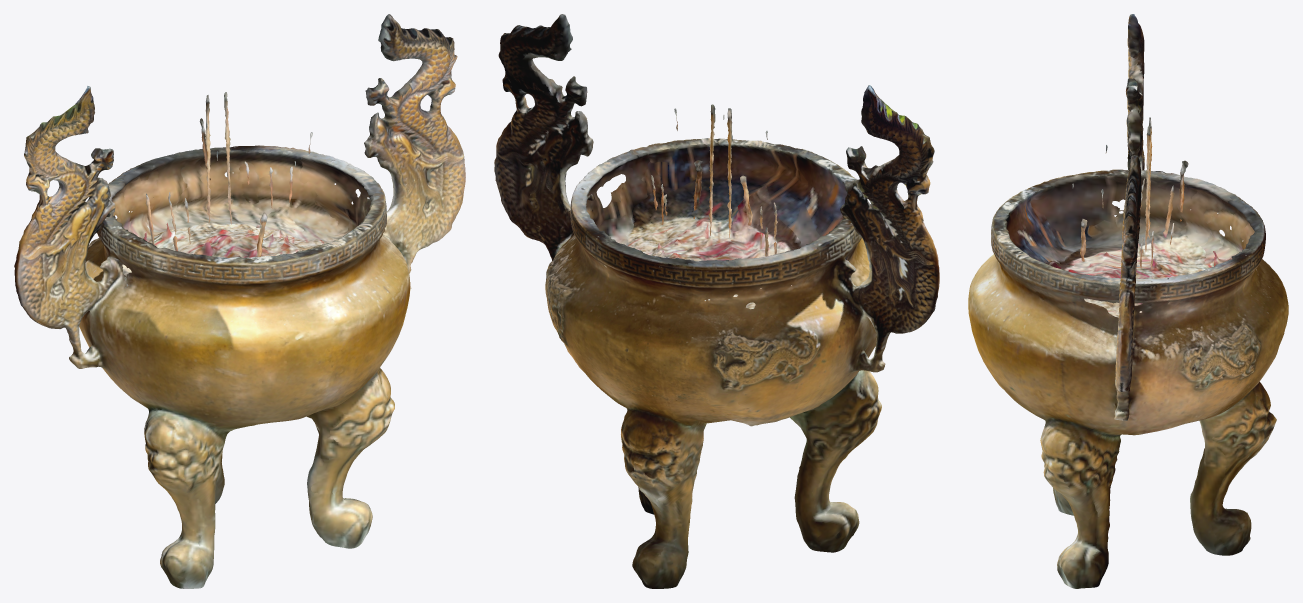
File: bronze_dragon_incense_urn_scaniverse.glb
3 views of the same model, side by side, from view 1: azimuth 30°, elevation 25°; view 2: azimuth 150°, elevation 25°; view 3: azimuth 270°, elevation 25° (orthographic). The views are drawn at different scales.
Visible parts, largest first — view 1: mesh_main_0 (×2); view 2: mesh_main_0 (×2); view 3: mesh_main_0 (×2).
Part boxes in pixels (x1,y1,x2,y2): mesh_main_0 (×2): (14,14,465,588); mesh_main_0 (×2): (494,14,939,588); mesh_main_0 (×2): (968,14,1288,588).
Size of the model in its own units: 0.9226 by 0.9751 by 0.6121.
Materials: 1 (1 with a texture image).
